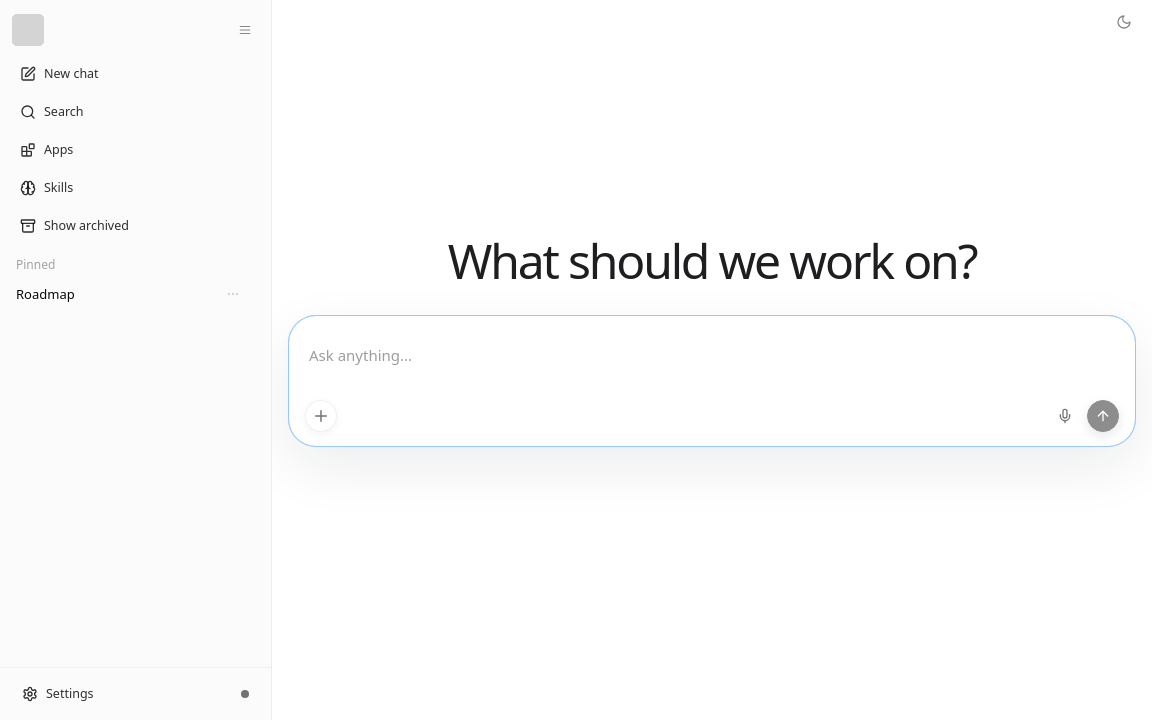
App layout › applies persisted sidebar workspace state from the gateway
The width and height of the screenshot is (1152, 720).
Check: the text "Pinned" is shown, box [16, 256, 55, 273]
Check: the button "Roadmap" is shown, box [16, 278, 189, 310]
Click the button "Show archived". click: click(136, 226)
box: [8, 210, 263, 242]
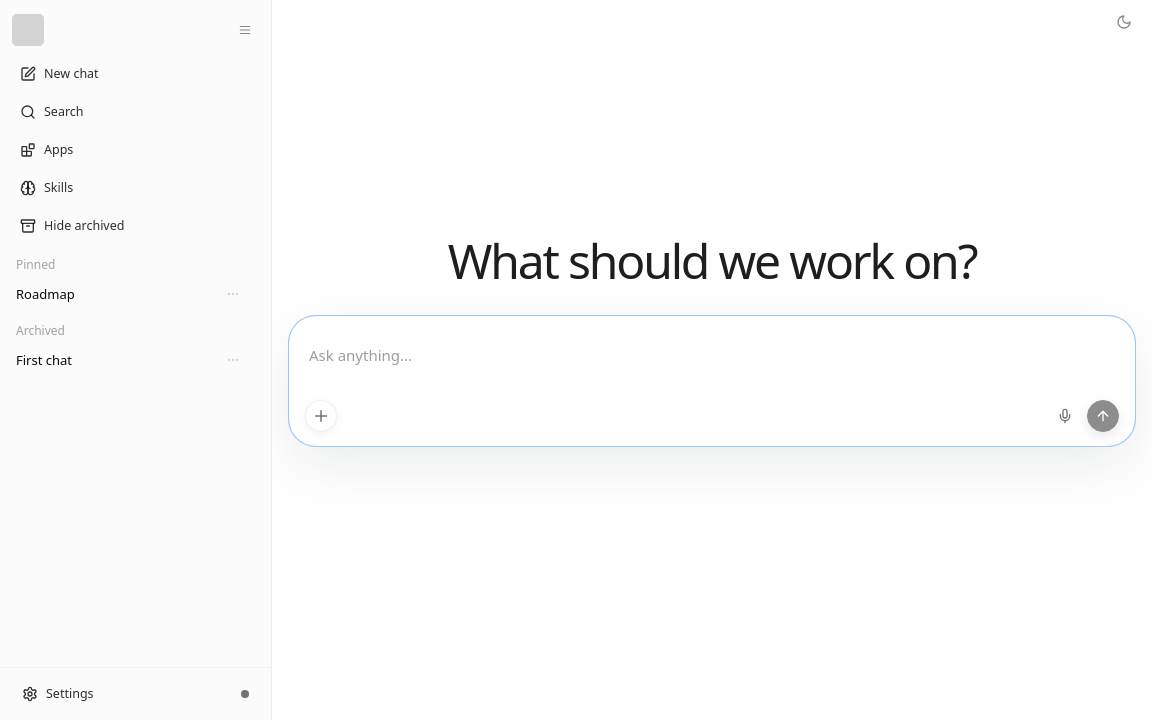
Check: the text "Archived" is shown, box [16, 322, 65, 339]
Check: the button "First chat" is shown, box [16, 344, 189, 376]
